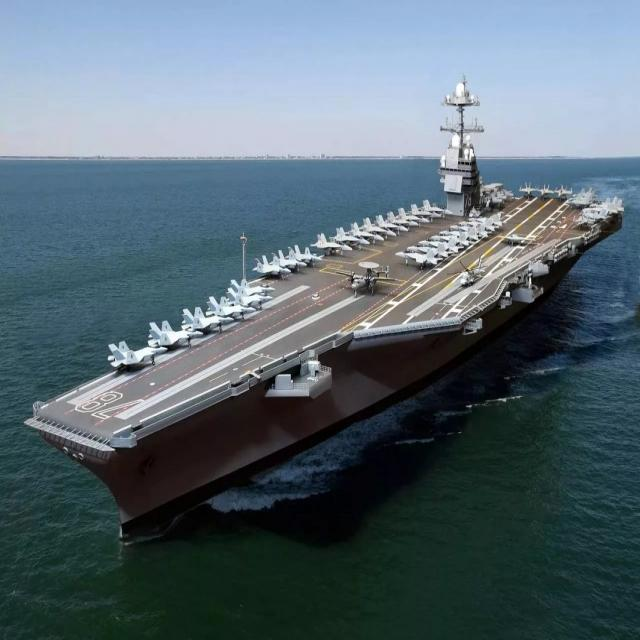Portanaves: (23, 50, 634, 551)
